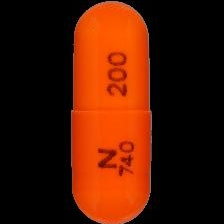0093-8740: (0, 0, 224, 224)
